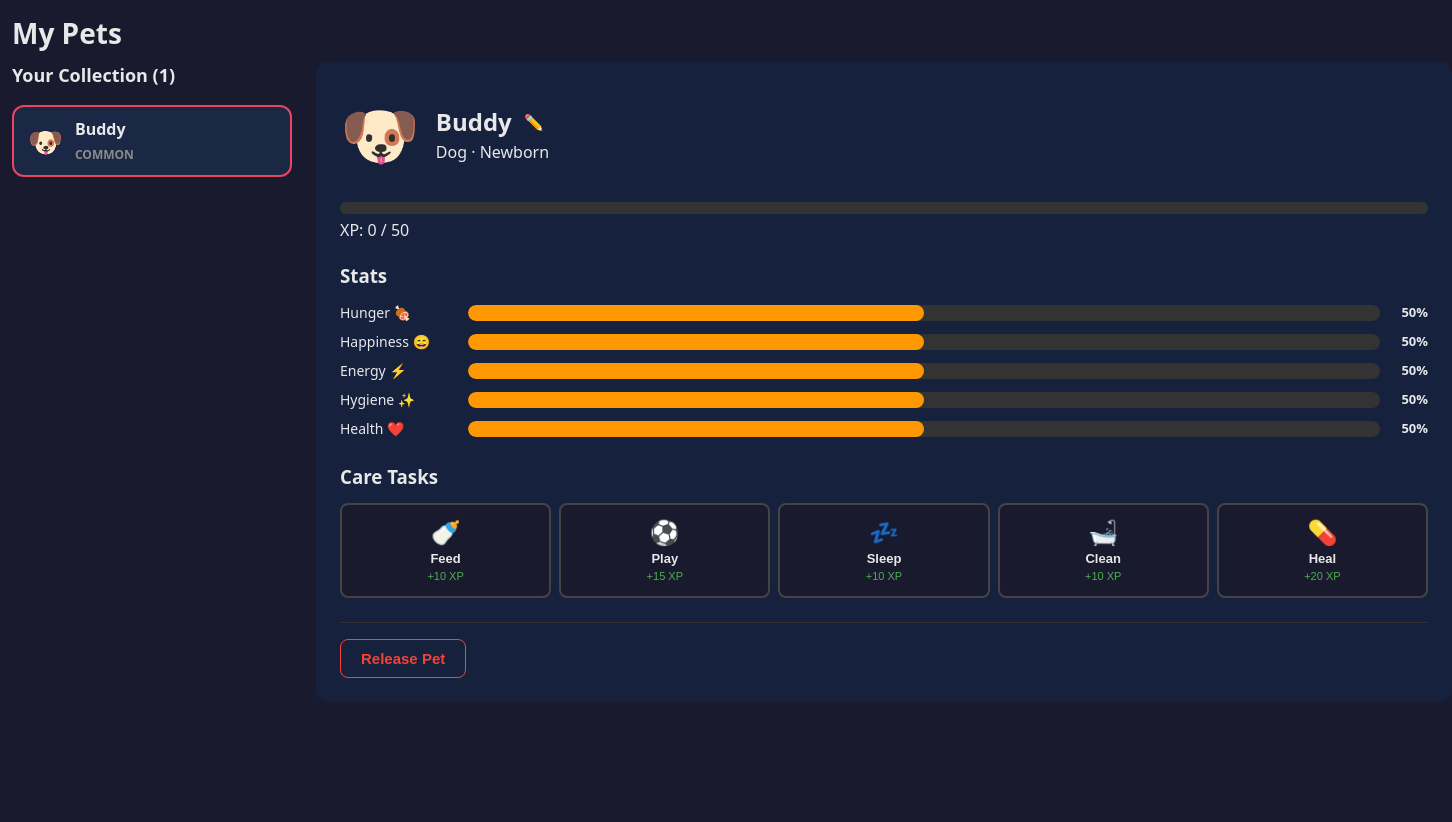
Test: MyPets › shows confirmation before releasing
The image size is (1452, 822).
Click the button "Release Pet".
click(403, 659)  # box [340, 639, 466, 678]
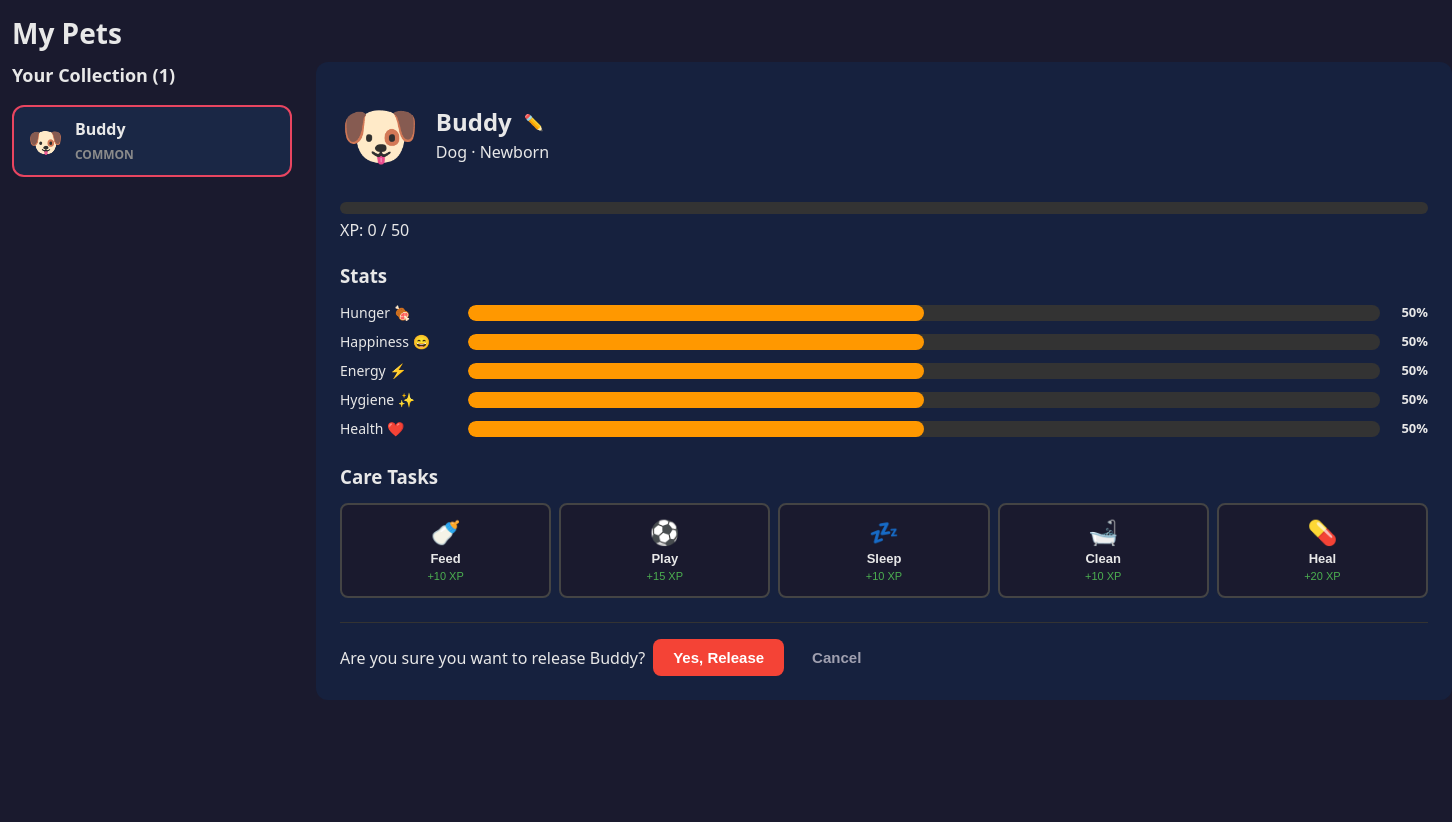
Result: the text "Are you sure you want to release Buddy?" is shown at [340, 646, 645, 670]
Result: the button "Yes, Release" is shown at [653, 639, 784, 676]
